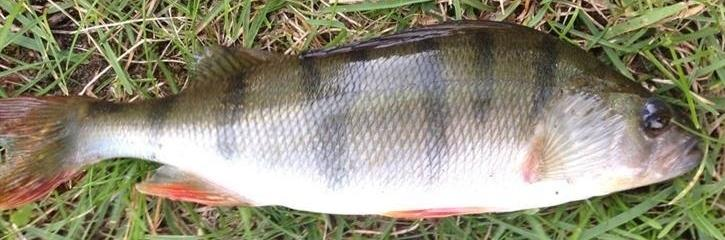Perch: (3, 18, 704, 220)
